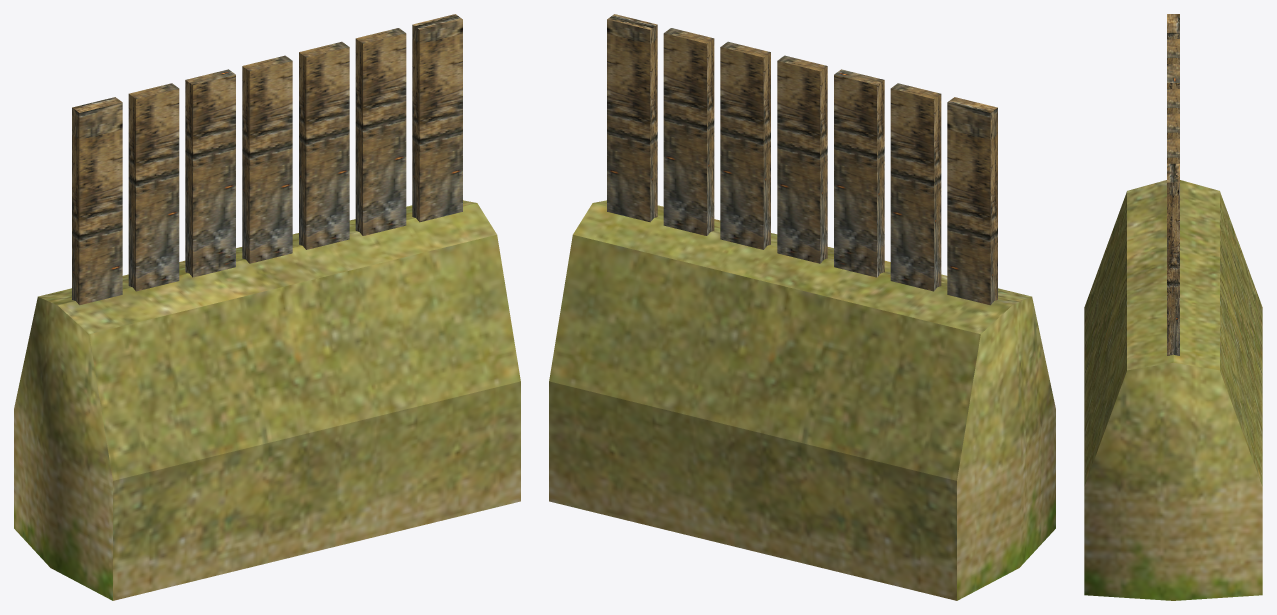
Rendered from tupis_wall_shot.dae.
3 views of the same model, side by side, from view 1: azimuth 30°, elevation 25°; view 2: azimuth 150°, elevation 25°; view 3: azimuth 270°, elevation 25° (orthographic). The views are drawn at different scales.
Visible parts, largest first — view 1: wall_tupi_shot; view 2: wall_tupi_shot; view 3: wall_tupi_shot.
Part boxes in pixels (x1,y1,x2,y2): wall_tupi_shot: [14, 14, 520, 600]; wall_tupi_shot: [549, 14, 1055, 600]; wall_tupi_shot: [1084, 14, 1262, 600].
Size of the model in its own units: 14.7 by 5.8 by 14.62.
Materials: 1 (1 with a texture image).
